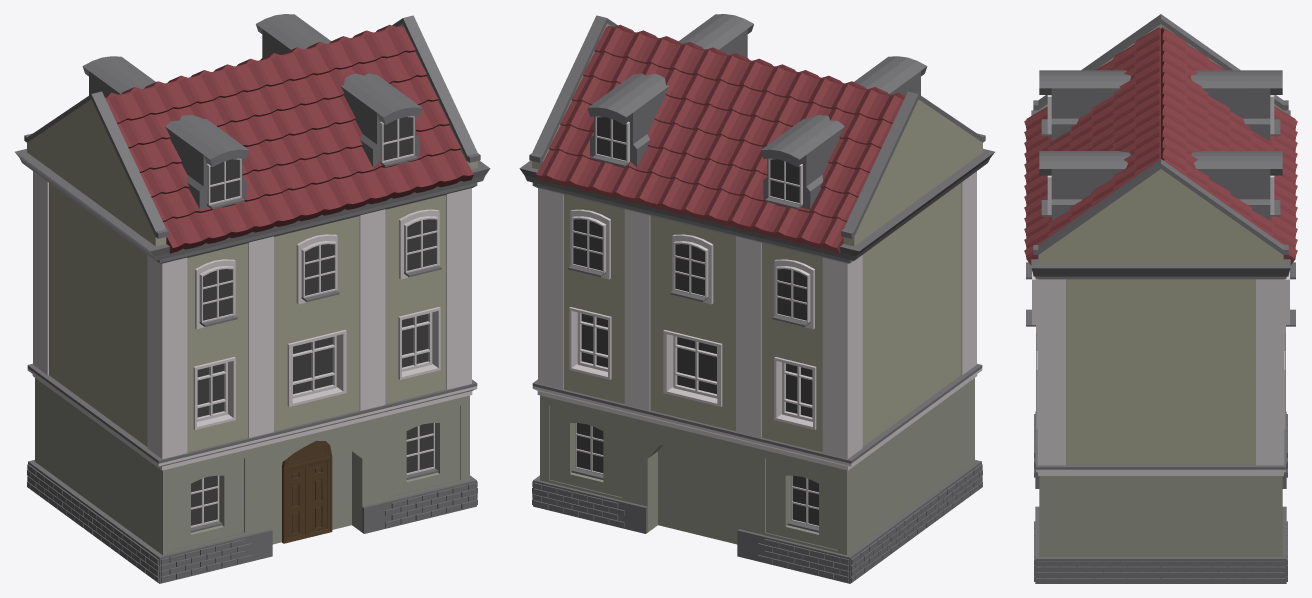
Rendered from Building1_Small.glb.
3 renders of one model, left to right at view 1: azimuth 30°, elevation 25°; view 2: azimuth 150°, elevation 25°; view 3: azimuth 270°, elevation 25°, orthographic. The views are drawn at different scales.
Visible parts, largest first — view 1: Building1_Small; view 2: Building1_Small; view 3: Building1_Small.
Part boxes in pixels (x1,y1,x2,y2): Building1_Small: [15, 14, 490, 583]; Building1_Small: [519, 14, 994, 583]; Building1_Small: [1024, 14, 1297, 583].
Size of the model in its own units: 3.75 by 4.66 by 2.74.
1 material, 1 textured.
